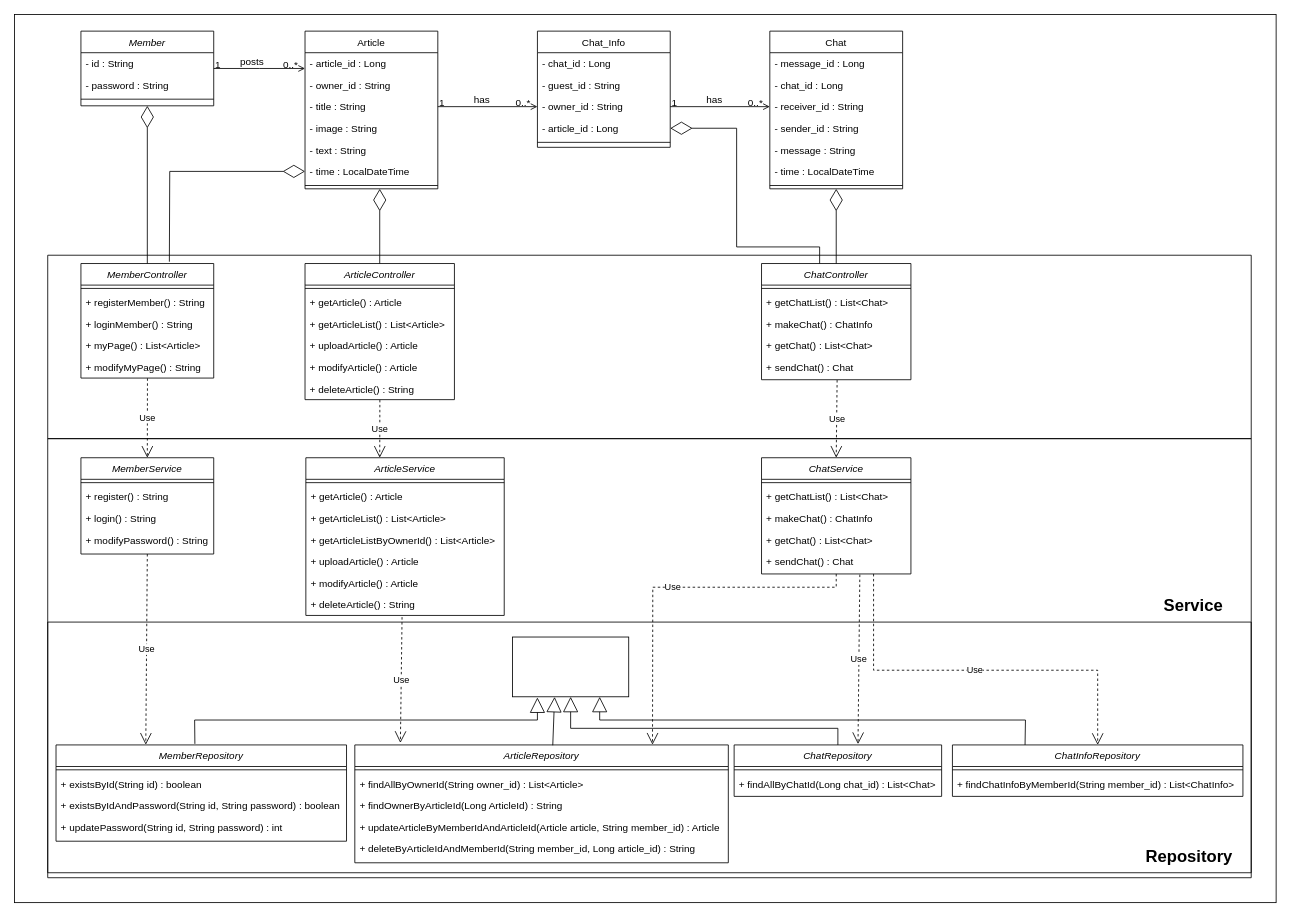
This 1291x917 diagram has some shape labels left out. Each missing label, with the centre of its shape:
Controller: the point at 649,346
«interface» JpaRepository: the point at 570,666
